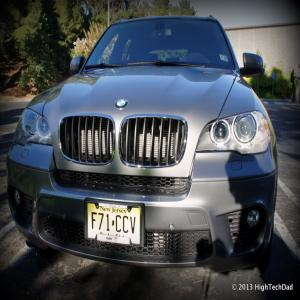Vehicle-registration-plate: (81, 204, 146, 252)
